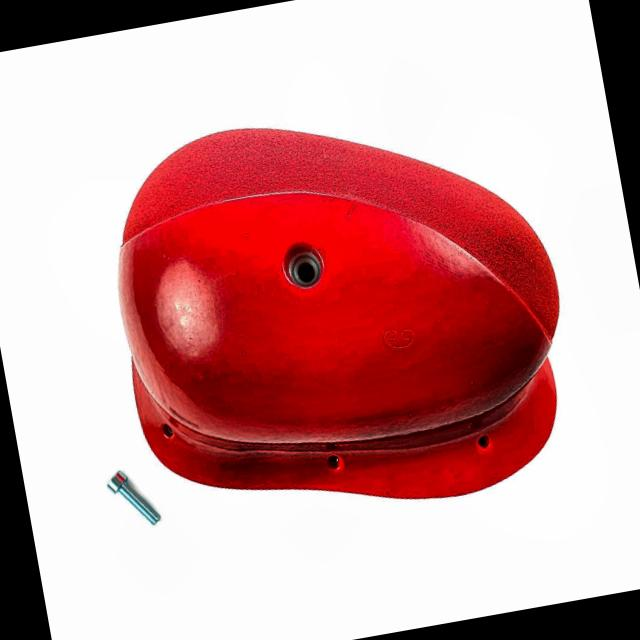Hold: (88, 79, 588, 551)
